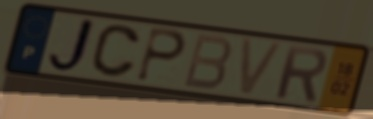B: (180, 32, 234, 93)
C: (88, 23, 143, 80)
J: (44, 15, 98, 76)
P: (133, 25, 189, 85)
R: (273, 43, 329, 104)
V: (237, 36, 288, 99)
